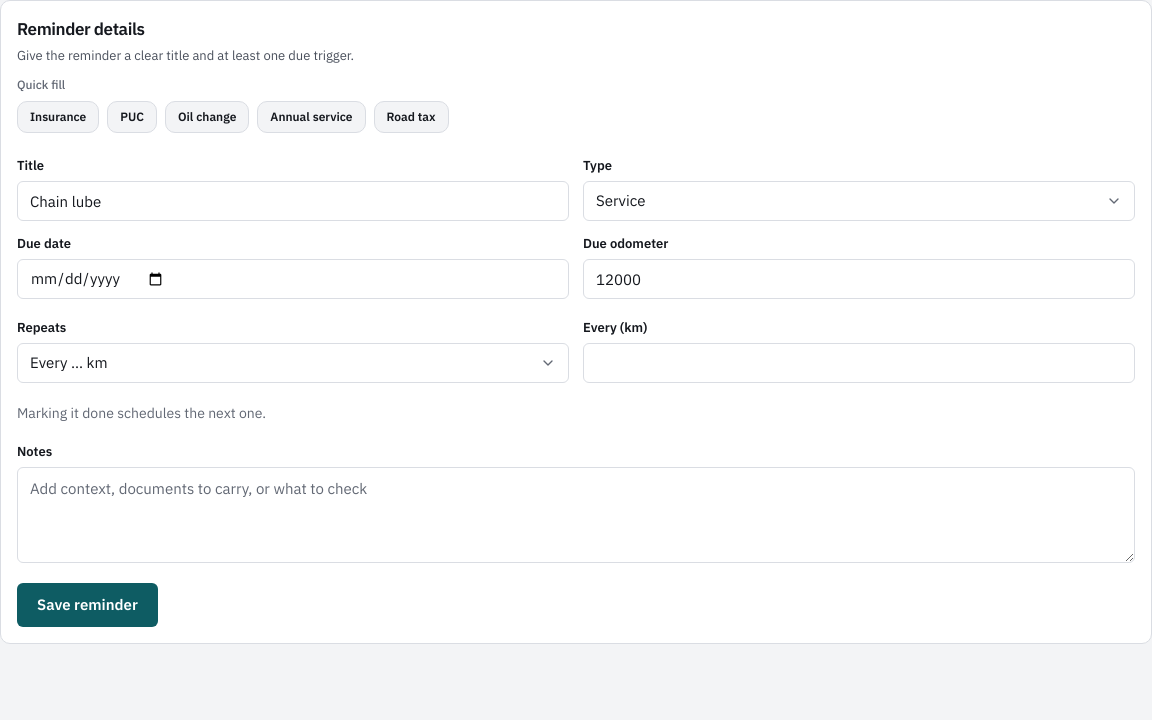
it: ReminderForm › asks for a distance when repeating by km
Click the button "Save reminder".
click(87, 605)  # box [17,583,158,627]
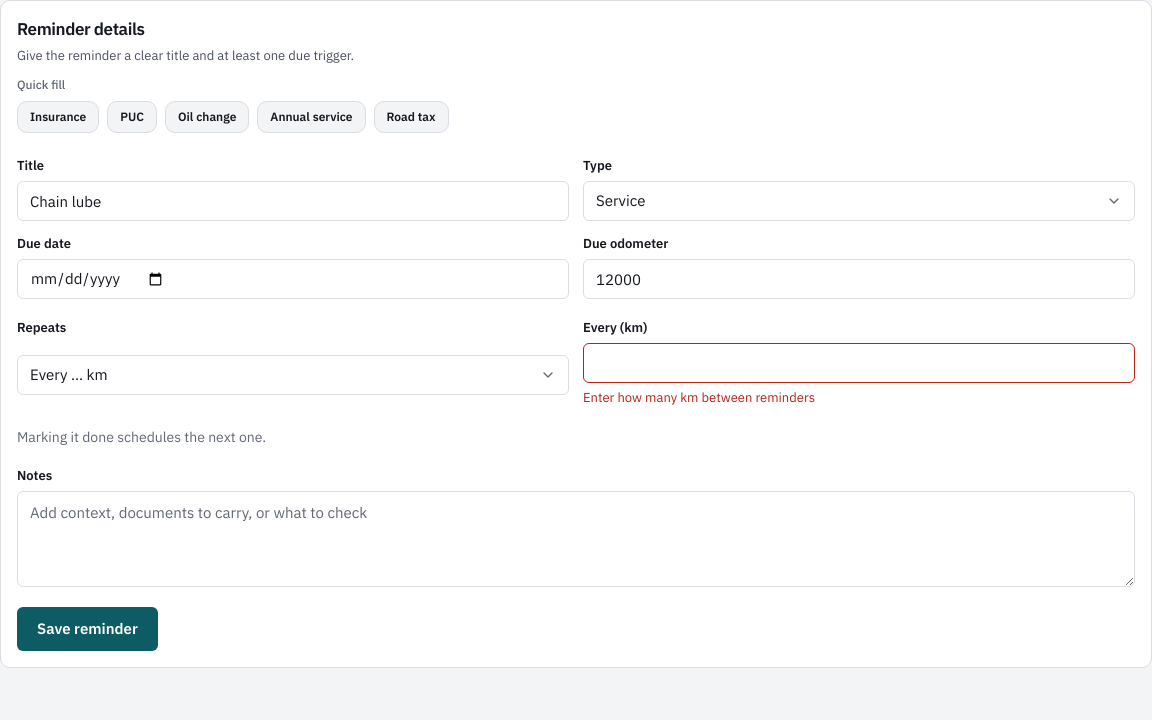
Now the text "Enter how many km between reminders" is shown, box [583,389,815,406]
